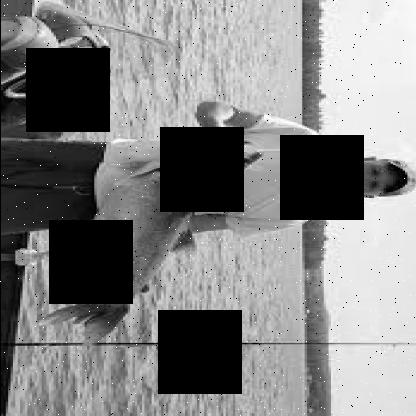fish: (43, 137, 264, 341)
